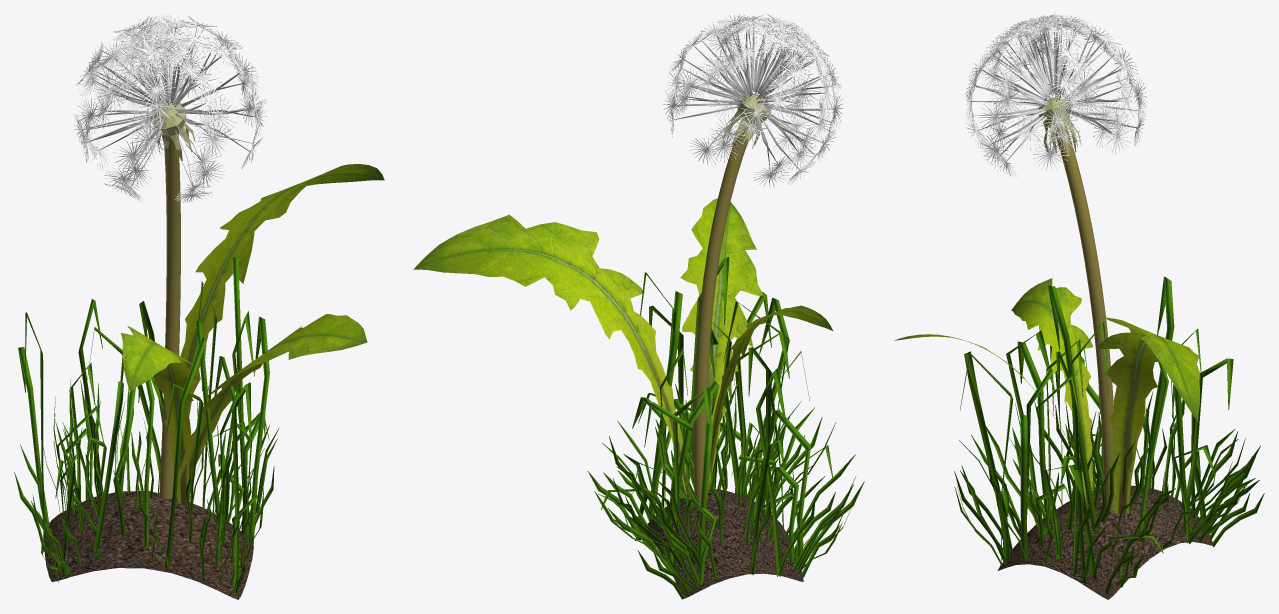
Rendered from plants_dandelion.fbx.
3 views of the same model, side by side, from view 1: azimuth 30°, elevation 25°; view 2: azimuth 150°, elevation 25°; view 3: azimuth 270°, elevation 25° (orthographic). The views are drawn at different scales.
Parts seen in each view (by area): view 1: plants; view 2: plants; view 3: plants.
Part boxes in pixels (box(x1,y1,x2,y2)): plants: box(14, 14, 384, 599); plants: box(413, 14, 864, 599); plants: box(894, 14, 1264, 599).
Size of the model in its own units: 20354 by 26354 by 16688.
